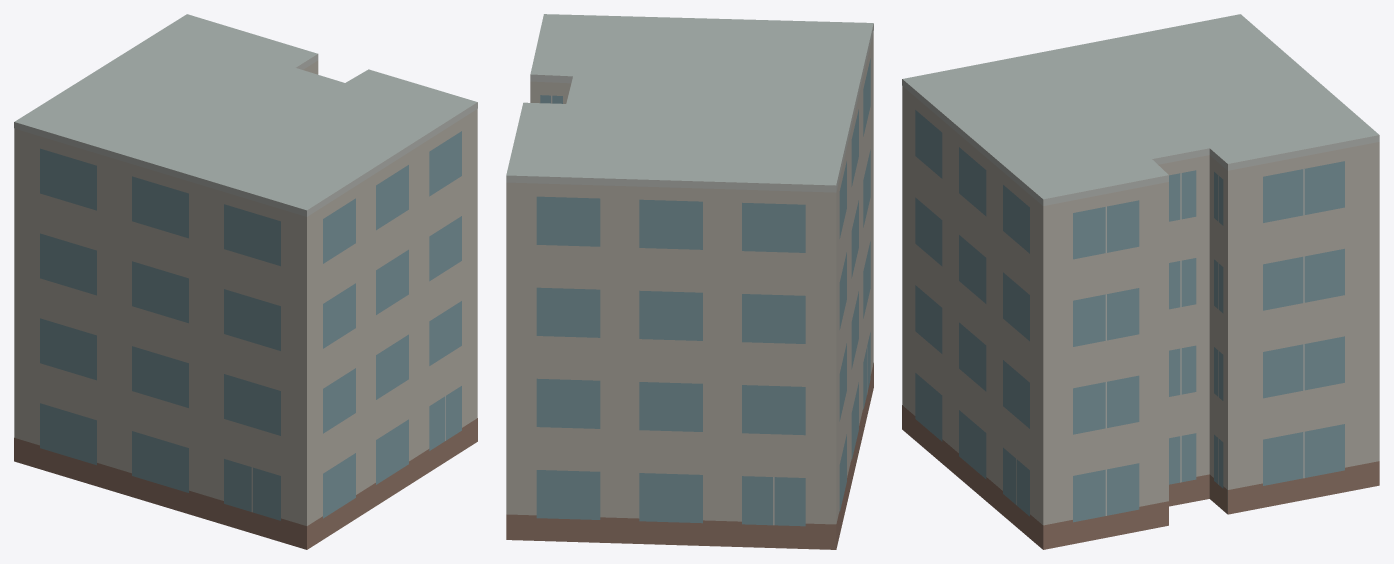
The model's file is survey-upis-32697338.glb.
The picture shows the model from 3 angles, left to right: view 1: azimuth 30°, elevation 25°; view 2: azimuth 150°, elevation 25°; view 3: azimuth 270°, elevation 25°; orthographic projection. The views are drawn at different scales.
Visible parts, largest first — view 1: survey-upis-32697338.tmp; view 2: survey-upis-32697338.tmp; view 3: survey-upis-32697338.tmp.
Boxes of the visible parts, box(x1,y1,x2,y2) form: survey-upis-32697338.tmp: box(14, 14, 477, 549); survey-upis-32697338.tmp: box(506, 14, 873, 549); survey-upis-32697338.tmp: box(902, 14, 1379, 549).
Bounding box in the file's own units: 14.3 × 12.6 × 15.56.
